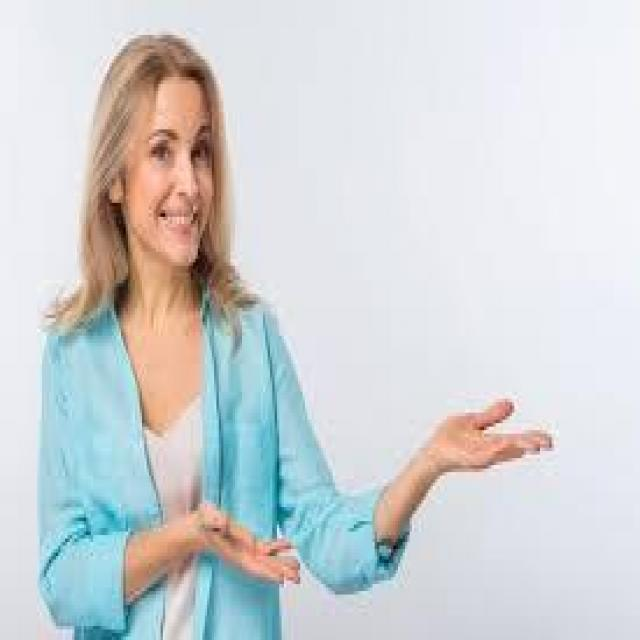person: (21, 21, 561, 636)
